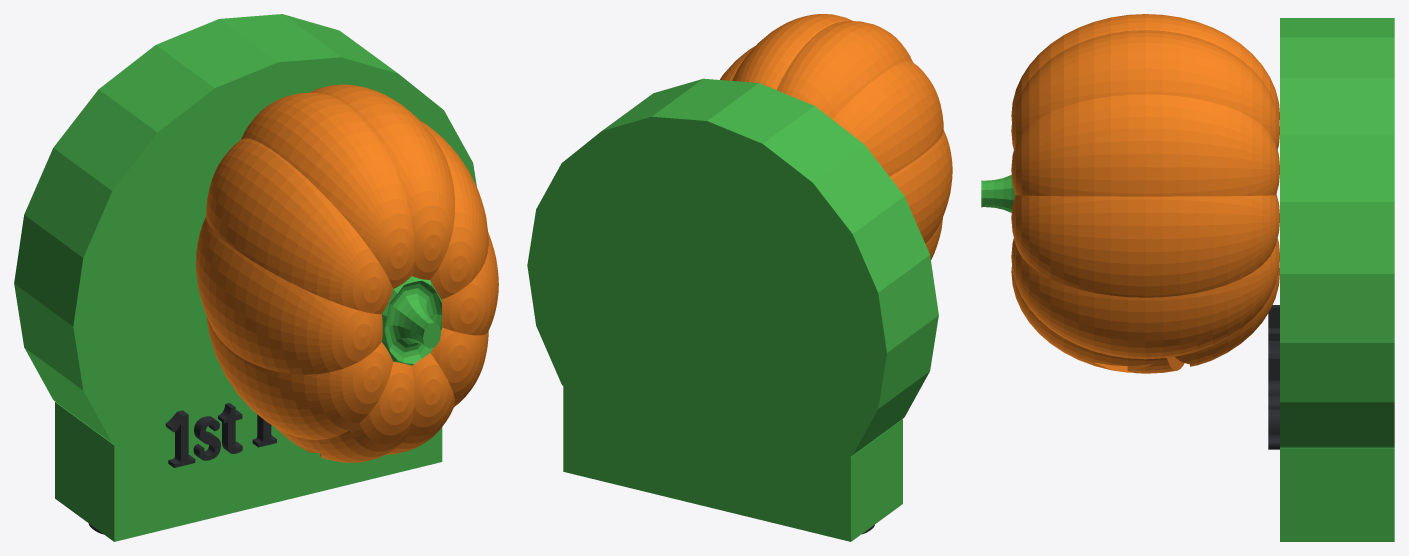
The model's file is tinker.obj.
3 renders of one model, left to right at view 1: azimuth 30°, elevation 25°; view 2: azimuth 150°, elevation 25°; view 3: azimuth 270°, elevation 25°, orthographic. The views are drawn at different scales.
Parts seen in each view (by area): view 1: group_0_4634441, group_0_16089887, group_0_2829873; view 2: group_0_4634441, group_0_16089887; view 3: group_0_16089887, group_0_4634441, group_0_2829873.
Part boxes in pixels (<box>): group_0_4634441: <box>14,14,476,541</box>; group_0_16089887: <box>195,84,498,462</box>; group_0_2829873: <box>88,403,276,534</box>; group_0_4634441: <box>527,78,938,541</box>; group_0_16089887: <box>720,14,952,259</box>; group_0_16089887: <box>1011,14,1279,373</box>; group_0_4634441: <box>981,18,1394,541</box>; group_0_2829873: <box>1268,305,1279,449</box>.
Size of the model in its own units: 127 by 137 by 114.
